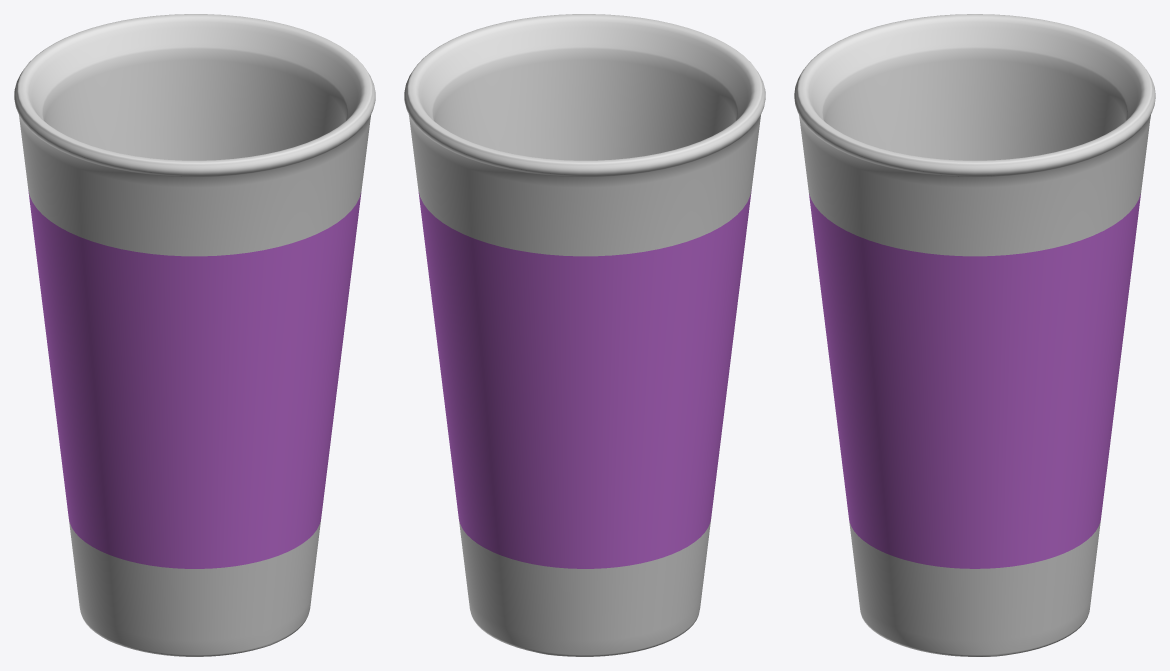
File: Cup Model.fbx
3 renders of one model, left to right at view 1: azimuth 30°, elevation 25°; view 2: azimuth 150°, elevation 25°; view 3: azimuth 270°, elevation 25°, orthographic.
Visible parts, largest first — view 1: Cup; view 2: Cup; view 3: Cup.
Part boxes in pixels (box(x1,y1,x2,y2)): Cup: box(14, 14, 375, 656); Cup: box(404, 14, 765, 656); Cup: box(794, 14, 1155, 656).
Size of the model in its own units: 8.43 by 13.39 by 8.43.
1 material, 1 textured.
